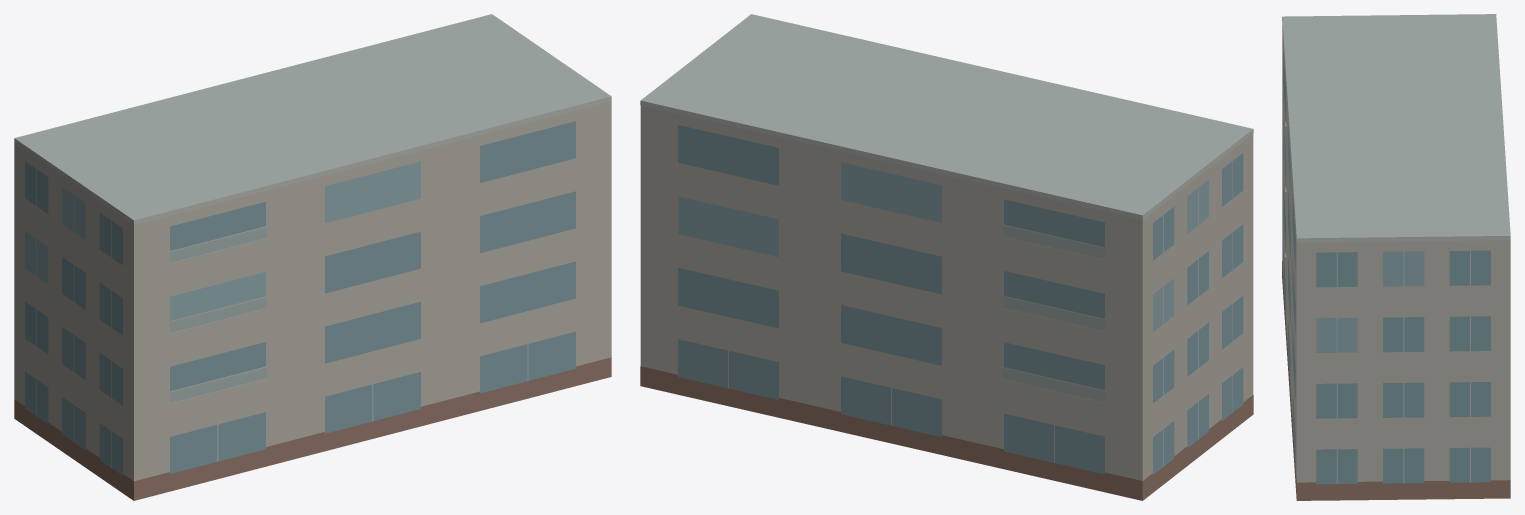
The model's file is survey-upis-32470063.glb.
The picture shows the model from 3 angles, left to right: view 1: azimuth 30°, elevation 25°; view 2: azimuth 150°, elevation 25°; view 3: azimuth 270°, elevation 25°; orthographic projection. The views are drawn at different scales.
Visible parts, largest first — view 1: survey-upis-32470063.tmp; view 2: survey-upis-32470063.tmp; view 3: survey-upis-32470063.tmp.
Boxes of the visible parts, x1,y1,x2,y2 form: survey-upis-32470063.tmp: [14, 14, 611, 500]; survey-upis-32470063.tmp: [640, 14, 1253, 500]; survey-upis-32470063.tmp: [1282, 14, 1510, 500].
Bounding box in the file's own units: 26.75 × 14.6 × 11.52.
